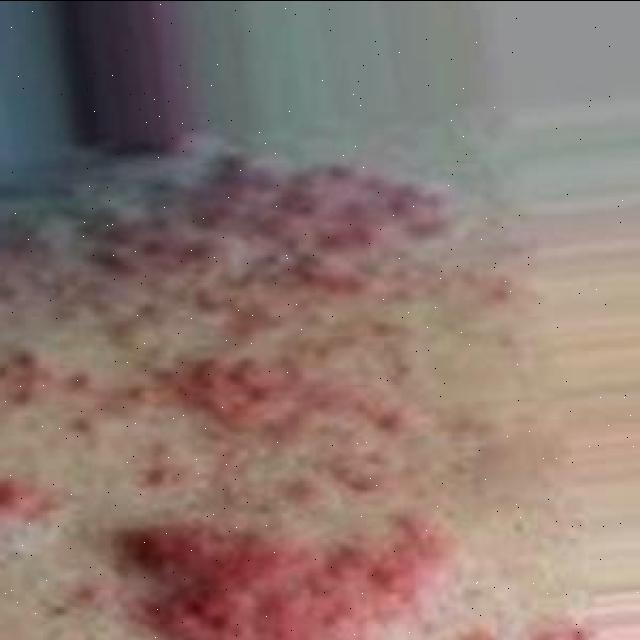Shingles: (0, 155, 450, 640)
